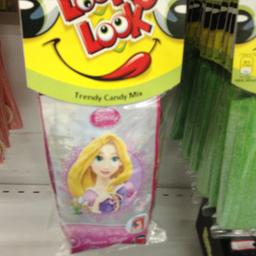candy: (26, 0, 188, 255), (202, 6, 255, 236)
